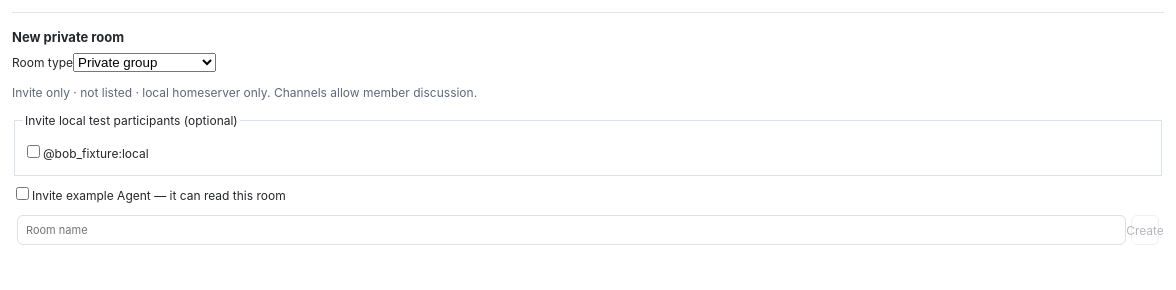
Test: defaults to private group without Agent and submits only selected local contacts
Expected: the dropdown labelled "Room type" shows "Private group", x1=73 y1=53 x2=216 y2=72
Expected: the checkbox labelled "Invite example Agent — it can read this room" is not checked, x1=16 y1=187 x2=29 y2=200
Type "Team" into the field named "New local room name" at x=572, y=230, box x1=17 y1=215 x2=1126 y2=245
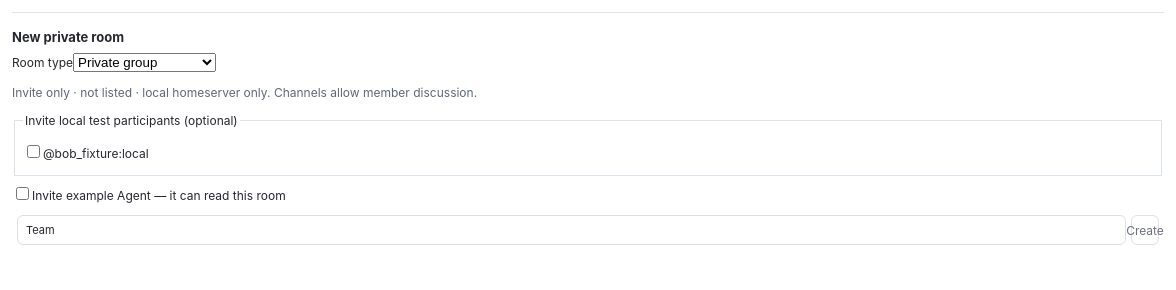
Click the checkbox labelled "@bob_fixture:local" at x=34, y=152, box x1=27 y1=145 x2=40 y2=158
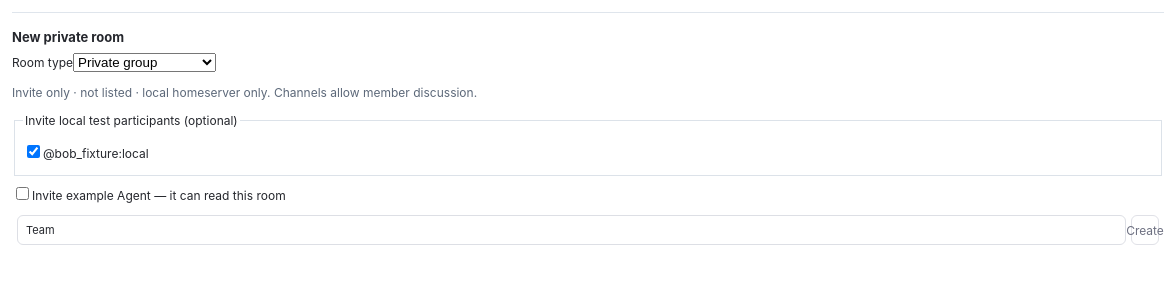
Click the button with aria-label "Create local room" at x=1145, y=230, box x1=1131 y1=215 x2=1159 y2=245
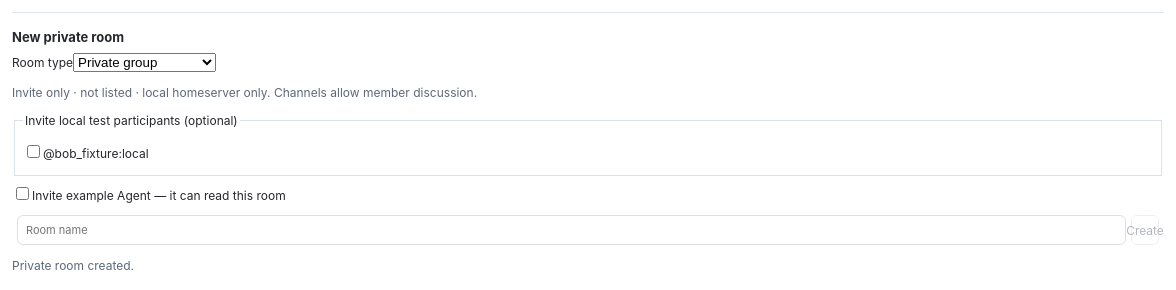
Expected: the text "Private room created." is shown, x1=12 y1=258 x2=134 y2=273
